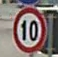limite 10: (12, 7, 46, 52)
